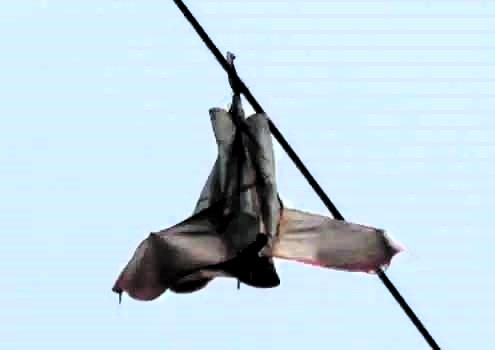wire foreign body: (104, 44, 397, 320)
